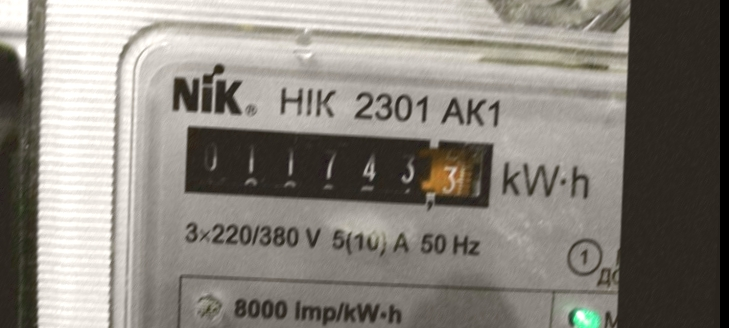0: (200, 139, 220, 175)
1: (283, 143, 299, 178), (246, 142, 257, 175)
3: (396, 151, 417, 187), (440, 165, 459, 199)
4: (359, 149, 378, 184)
7: (320, 147, 340, 181)
screen: (169, 114, 507, 222)
